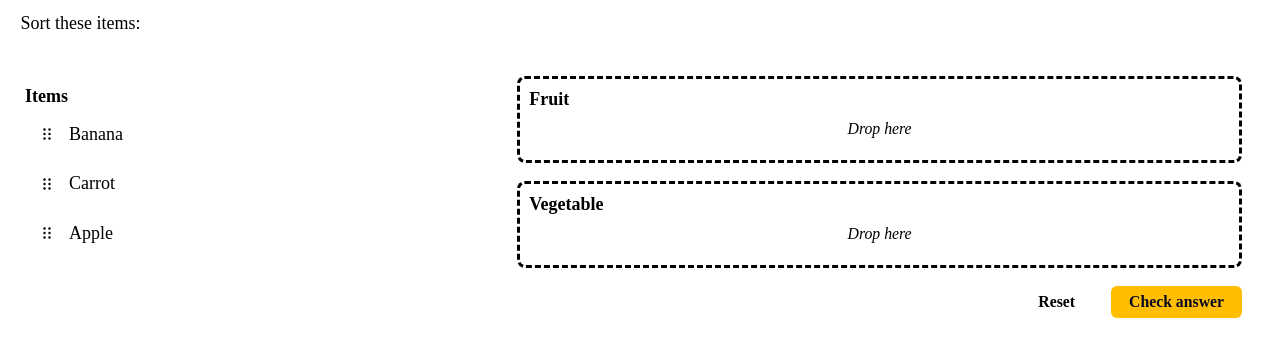
Test case: Categorize › shows unanswered feedback when not all items are placed
The image size is (1263, 339).
Click the button "Check answer".
click(1177, 302)  # box [1111,286,1242,318]
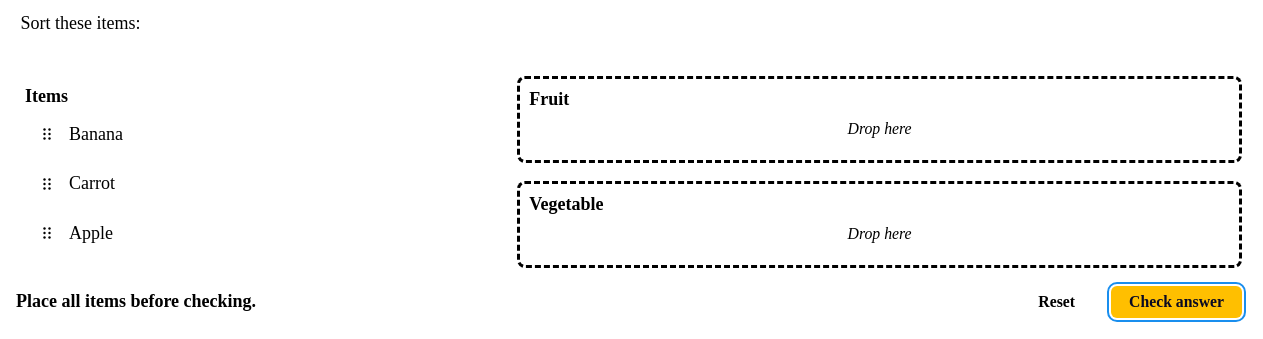
Now the text "Place all items before checking." is shown, box [16,291,256,311]
